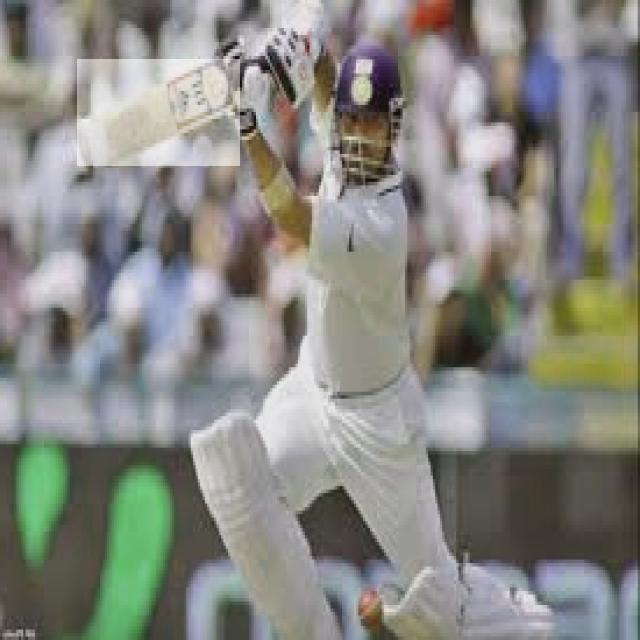bat: (78, 58, 239, 169)
toe: (79, 130, 93, 167)
